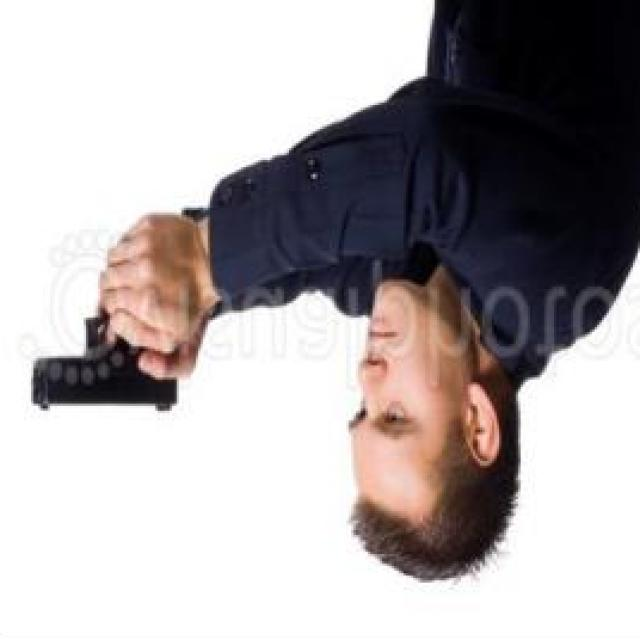pistol: (34, 306, 182, 410)
